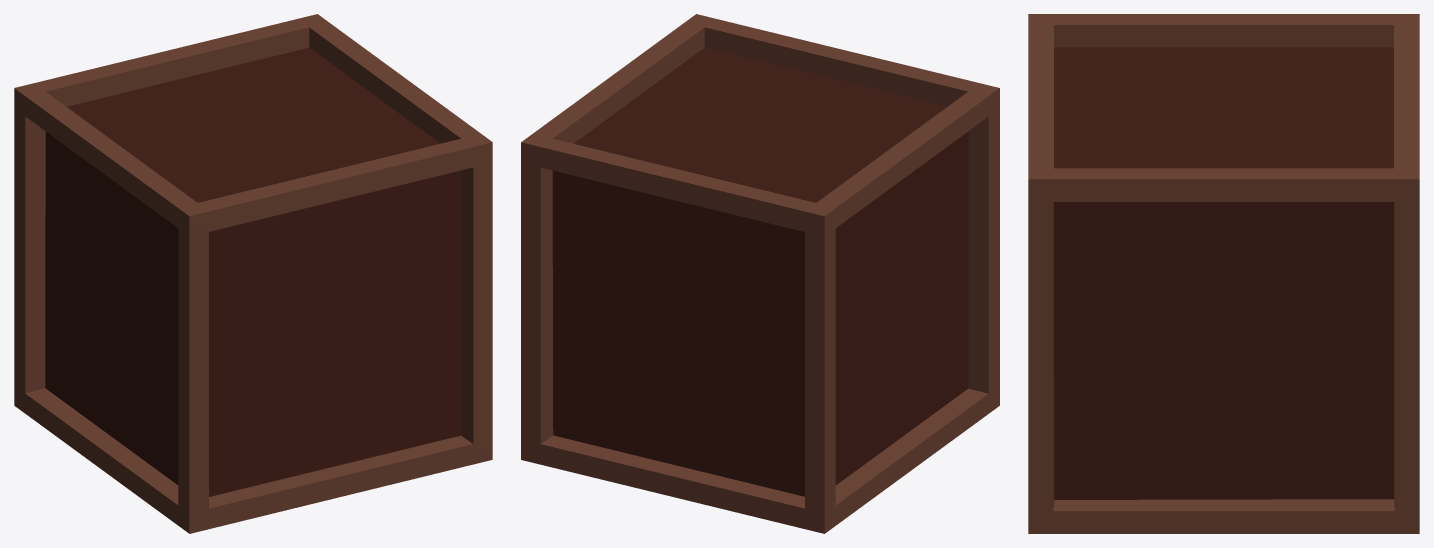
Rendered from Wreckage_9.fbx.
The picture shows the model from 3 angles, left to right: view 1: azimuth 30°, elevation 25°; view 2: azimuth 150°, elevation 25°; view 3: azimuth 270°, elevation 25°; orthographic projection. The views are drawn at different scales.
Visible parts, largest first — view 1: Wreckage_9; view 2: Wreckage_9; view 3: Wreckage_9.
Part boxes in pixels (left/top/right/bottom): Wreckage_9: left=14, top=14, right=492, bottom=533; Wreckage_9: left=521, top=14, right=999, bottom=533; Wreckage_9: left=1028, top=14, right=1419, bottom=533.
Bounding box in the file's own units: 11.04 × 11.05 × 11.04.
